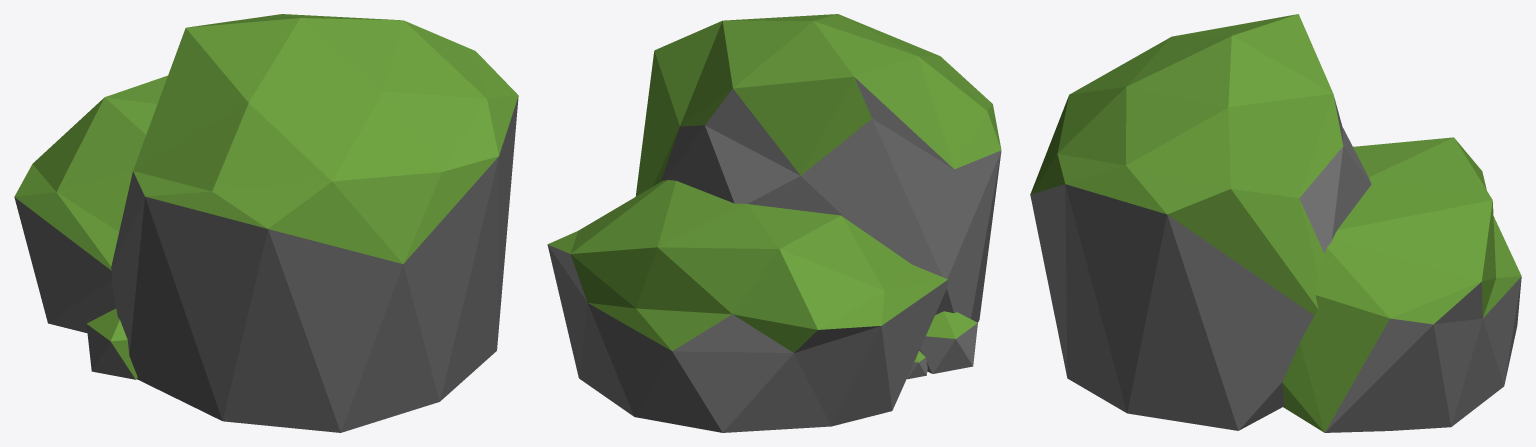
Rendered from low_poly_stone_for_games.glb.
The picture shows the model from 3 angles, left to right: view 1: azimuth 30°, elevation 25°; view 2: azimuth 150°, elevation 25°; view 3: azimuth 270°, elevation 25°; orthographic projection. The views are drawn at different scales.
Visible parts, largest first — view 1: Icosphere; view 2: Icosphere; view 3: Icosphere.
Part boxes in pixels (x1,y1,x2,y2): Icosphere: (14,14,518,432); Icosphere: (547,14,1001,432); Icosphere: (1030,14,1521,432).
Bounding box in the file's own units: 196 × 170 × 232.
Materials: 1 (1 with a texture image).
